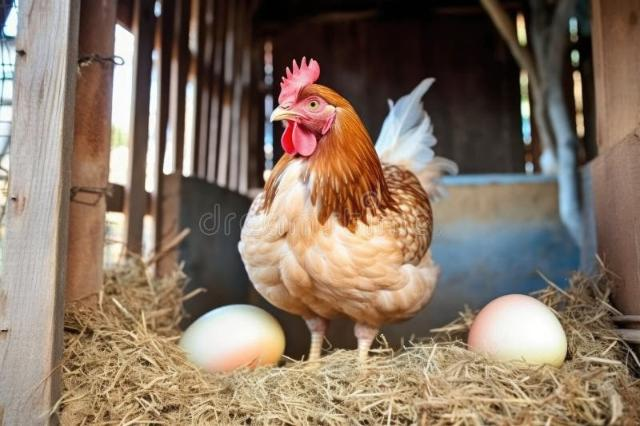Chicken: (237, 55, 457, 367)
